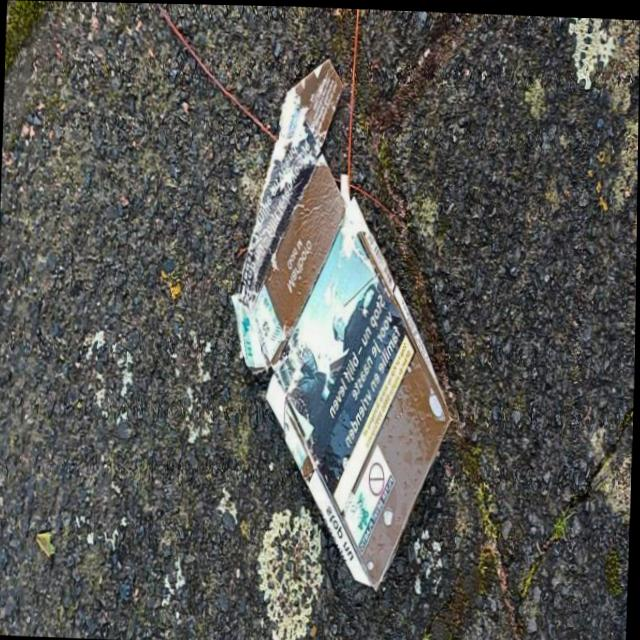Paper: (220, 47, 467, 596)
